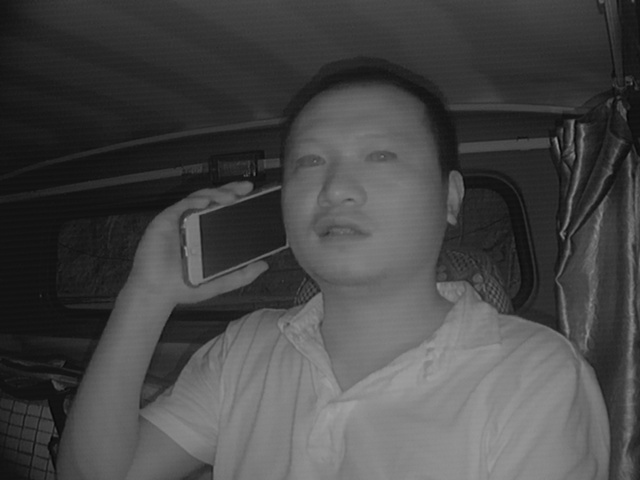hand: (143, 183, 266, 306)
